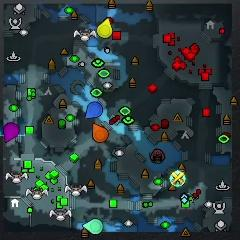Other: (170, 170, 186, 187)
p1: (85, 101, 103, 118)
p2: (83, 219, 102, 234)
p3: (4, 122, 20, 142)
p4: (96, 18, 112, 37)
p5: (92, 123, 108, 143)
